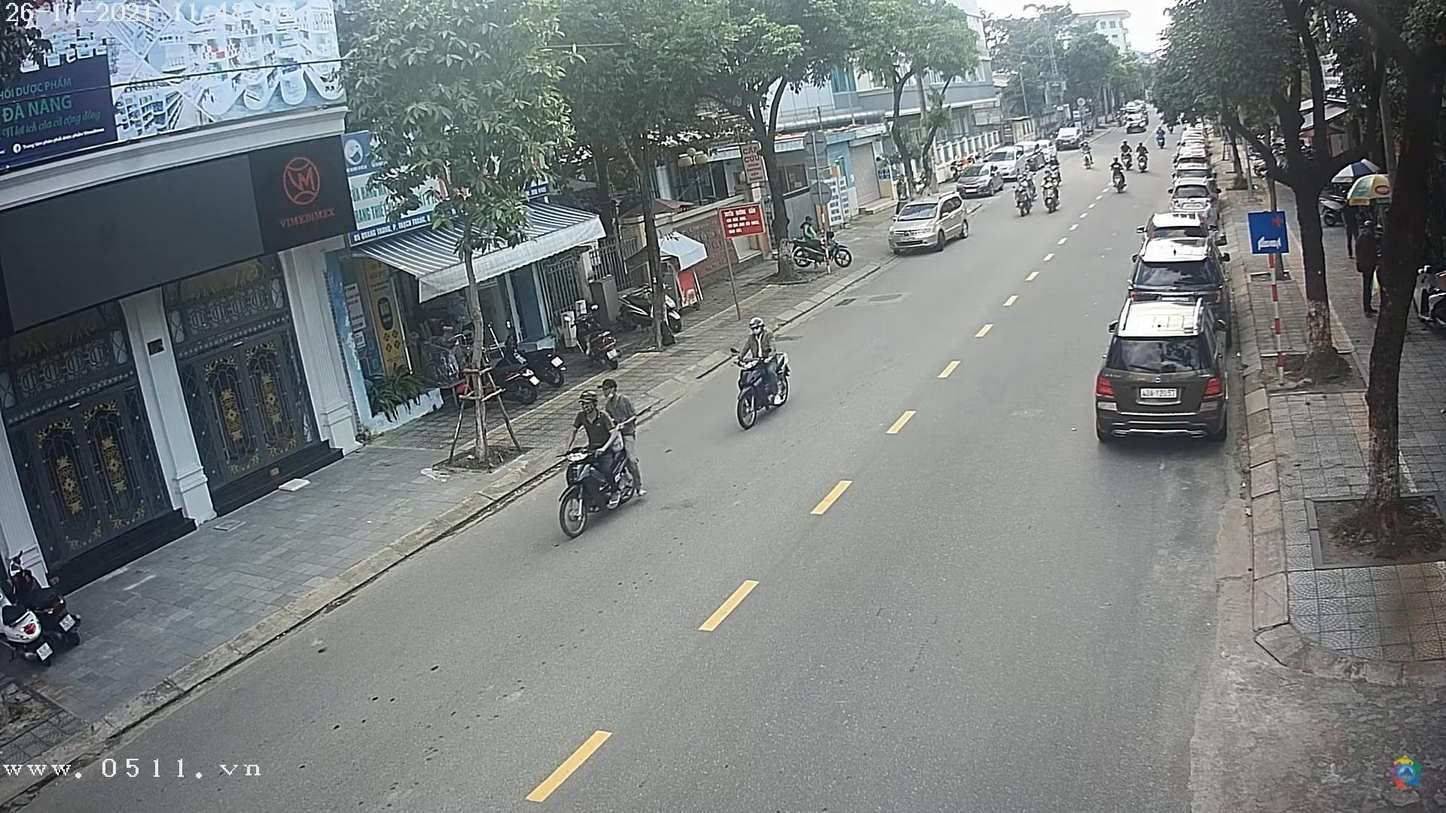car: (1097, 303, 1224, 444), (1129, 235, 1226, 302), (892, 196, 978, 256), (958, 161, 1011, 197)
motorbike: (560, 437, 645, 535), (735, 351, 793, 434), (1044, 183, 1063, 217)
